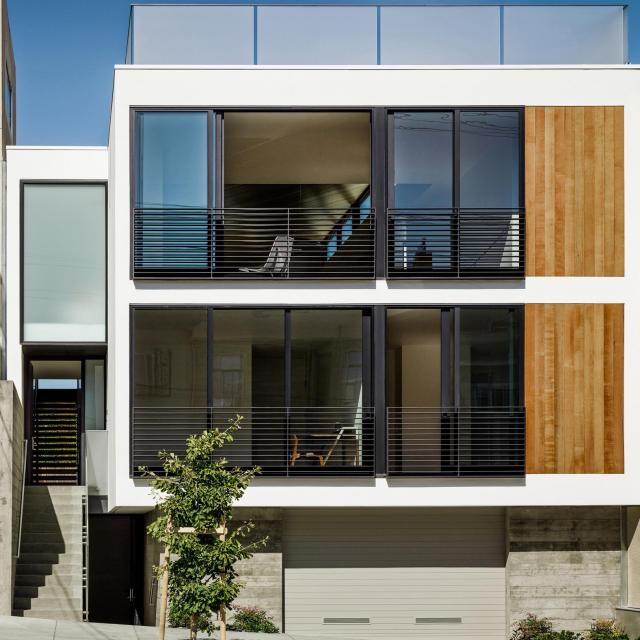Railing: (135, 1, 627, 65), (136, 204, 375, 279), (136, 403, 372, 475), (390, 406, 532, 476), (386, 206, 524, 276)
door: (91, 518, 139, 626)
plant: (146, 413, 275, 624)
wall: (5, 0, 638, 625)
windows: (134, 306, 368, 405), (386, 306, 526, 404), (386, 107, 522, 207), (134, 108, 212, 201)
